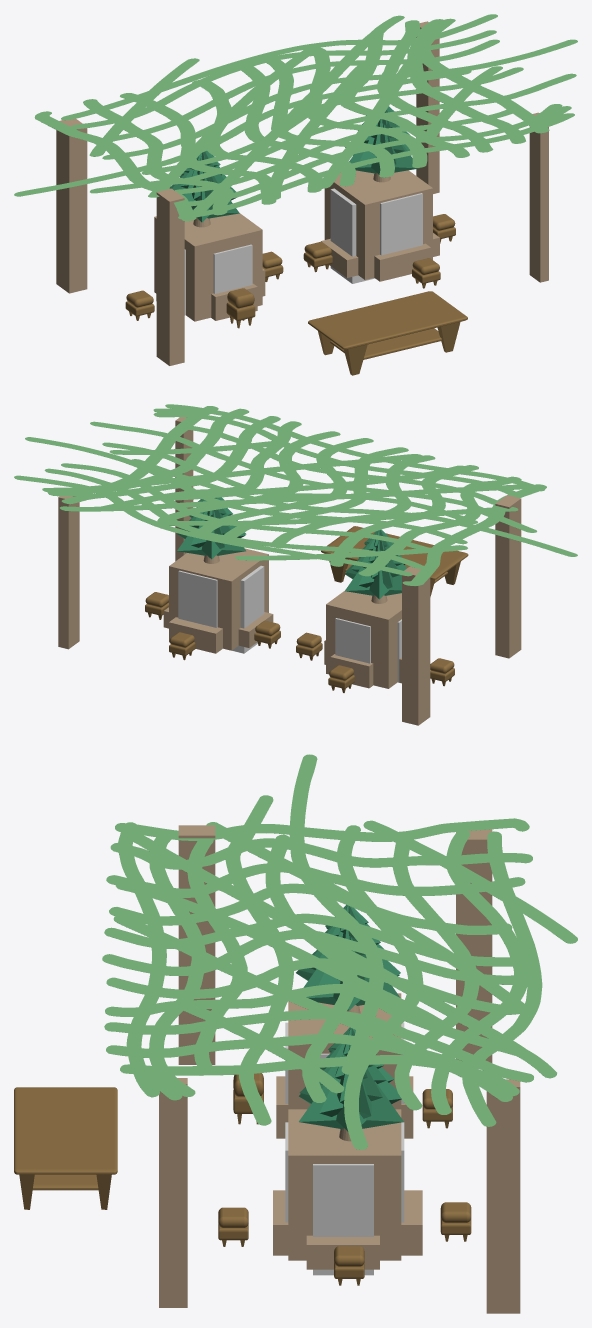
The model's file is bianca2.gltf.
3 renders of one model, top to bottom at view 1: azimuth 30°, elevation 25°; view 2: azimuth 150°, elevation 25°; view 3: azimuth 270°, elevation 25°, orthographic. The views are drawn at different scales.
Visible parts, largest first — view 1: Mesh_Mesh_head_geo.001_lambert2SG.001; view 2: Mesh_Mesh_head_geo.001_lambert2SG.001; view 3: Mesh_Mesh_head_geo.001_lambert2SG.001.
Boxes of the visible parts, box(x1,y1,x2,y2) form: Mesh_Mesh_head_geo.001_lambert2SG.001: box(14, 14, 577, 375); Mesh_Mesh_head_geo.001_lambert2SG.001: box(14, 404, 577, 725); Mesh_Mesh_head_geo.001_lambert2SG.001: box(14, 754, 577, 1313).
Size of the model in its own units: 307 by 87.77 by 185.
